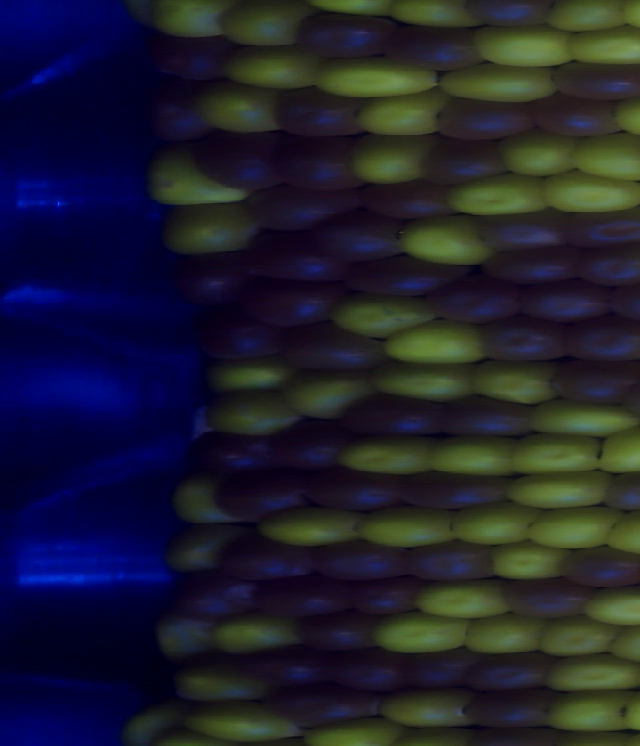fluorescent: (386, 206, 497, 276), (137, 148, 257, 212), (243, 497, 370, 555), (173, 692, 308, 746), (271, 369, 390, 429), (152, 197, 267, 257), (371, 315, 490, 372), (455, 19, 580, 73), (160, 654, 274, 712), (323, 288, 447, 341), (461, 350, 565, 413), (189, 78, 290, 142), (211, 43, 331, 96), (310, 53, 442, 101), (434, 59, 563, 108), (514, 393, 640, 443), (342, 129, 445, 190), (348, 499, 466, 552), (442, 169, 553, 225), (370, 605, 481, 661), (329, 429, 444, 483), (521, 498, 627, 556), (419, 427, 523, 485), (404, 573, 517, 626), (200, 393, 317, 444), (539, 161, 640, 220), (367, 357, 480, 408), (209, 1, 319, 52), (370, 682, 482, 732), (444, 494, 541, 551), (346, 88, 449, 141), (532, 646, 640, 696), (495, 430, 607, 478), (491, 124, 580, 184), (454, 608, 551, 663), (529, 610, 626, 665), (159, 517, 239, 583), (204, 614, 313, 662), (197, 351, 306, 398), (500, 464, 613, 509), (535, 686, 637, 734), (149, 603, 220, 671), (164, 475, 244, 534), (565, 128, 640, 188), (479, 538, 569, 588), (300, 707, 410, 746), (145, 1, 237, 45), (541, 1, 634, 43), (571, 581, 640, 635), (563, 25, 640, 71), (109, 701, 175, 746), (592, 423, 640, 478), (599, 91, 640, 147), (605, 503, 640, 560), (604, 615, 640, 670)
nonfluorescent: (186, 123, 288, 199), (296, 457, 416, 520), (259, 677, 391, 734), (291, 6, 401, 71), (276, 318, 393, 378), (244, 178, 365, 235), (235, 271, 348, 332), (183, 422, 289, 486), (240, 233, 359, 290), (339, 249, 471, 300), (271, 132, 374, 197), (337, 391, 456, 446), (393, 465, 516, 518), (428, 391, 544, 447), (163, 248, 266, 311), (395, 533, 506, 591), (207, 532, 324, 587), (268, 81, 369, 144), (193, 304, 291, 368), (422, 272, 530, 329), (432, 93, 544, 147), (145, 28, 244, 89), (382, 21, 486, 79), (479, 239, 586, 294), (307, 213, 414, 267), (208, 473, 313, 528), (529, 91, 635, 145), (545, 355, 640, 415), (309, 536, 421, 586), (512, 276, 617, 329), (249, 570, 358, 621), (417, 134, 512, 192), (474, 312, 572, 368), (262, 415, 350, 477), (164, 568, 261, 624), (320, 642, 413, 700), (137, 76, 215, 145), (467, 205, 574, 255), (393, 641, 488, 697), (460, 643, 559, 696), (499, 570, 592, 626), (241, 638, 337, 692), (454, 686, 559, 734), (366, 174, 461, 226), (285, 606, 383, 655), (545, 56, 640, 105), (560, 538, 640, 596), (564, 309, 640, 366), (555, 204, 640, 253), (569, 237, 640, 292), (349, 574, 424, 623), (462, 1, 556, 32), (599, 466, 640, 519), (608, 275, 640, 332)
